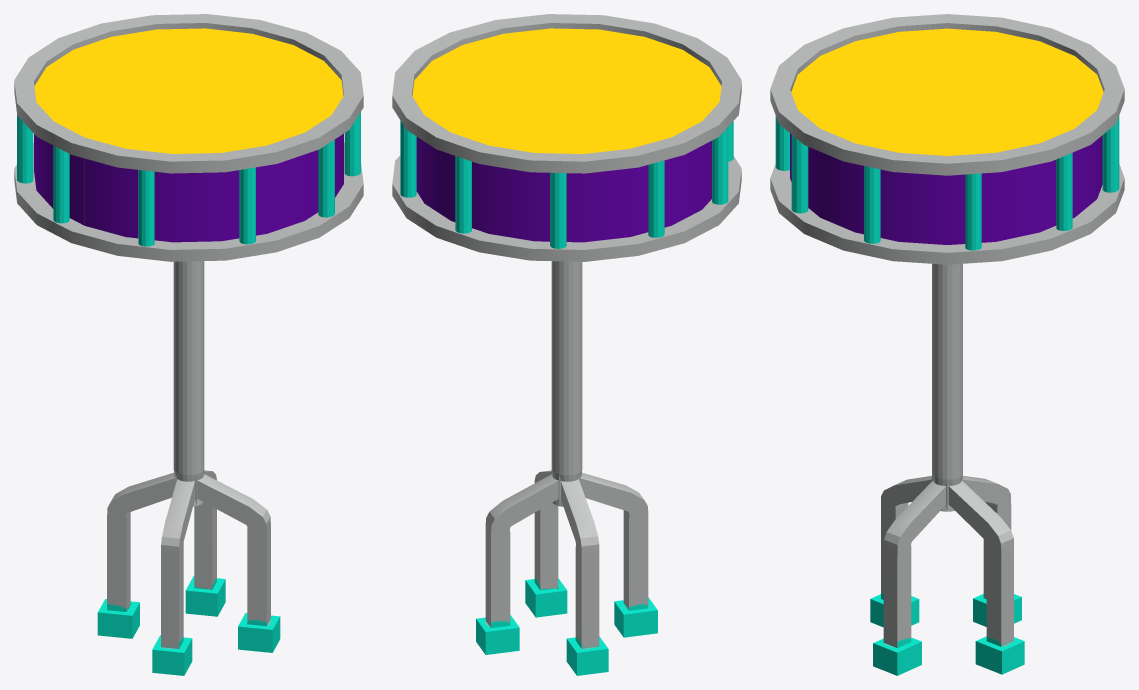
Rendered from TOM_1.fbx.
The picture shows the model from 3 angles, left to right: view 1: azimuth 30°, elevation 25°; view 2: azimuth 150°, elevation 25°; view 3: azimuth 270°, elevation 25°; orthographic projection.
Parts seen in each view (by area): view 1: pCylinder22; view 2: pCylinder22; view 3: pCylinder22.
Boxes of the visible parts, box(x1,y1,x2,y2) form: pCylinder22: box(14, 14, 363, 675); pCylinder22: box(392, 14, 741, 675); pCylinder22: box(770, 14, 1124, 675).
Size of the model in its own units: 3.85 by 6.65 by 3.85.
2 materials, 2 textured.
